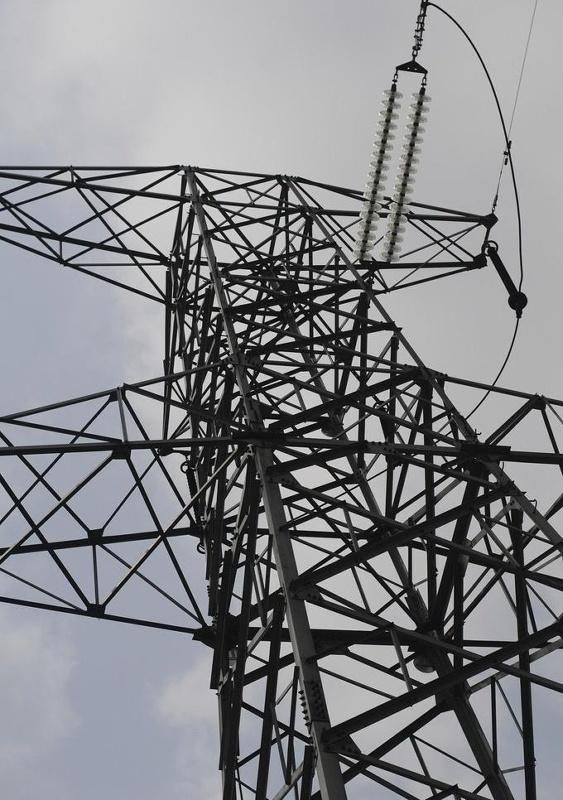power_tower: (19, 110, 532, 788)
